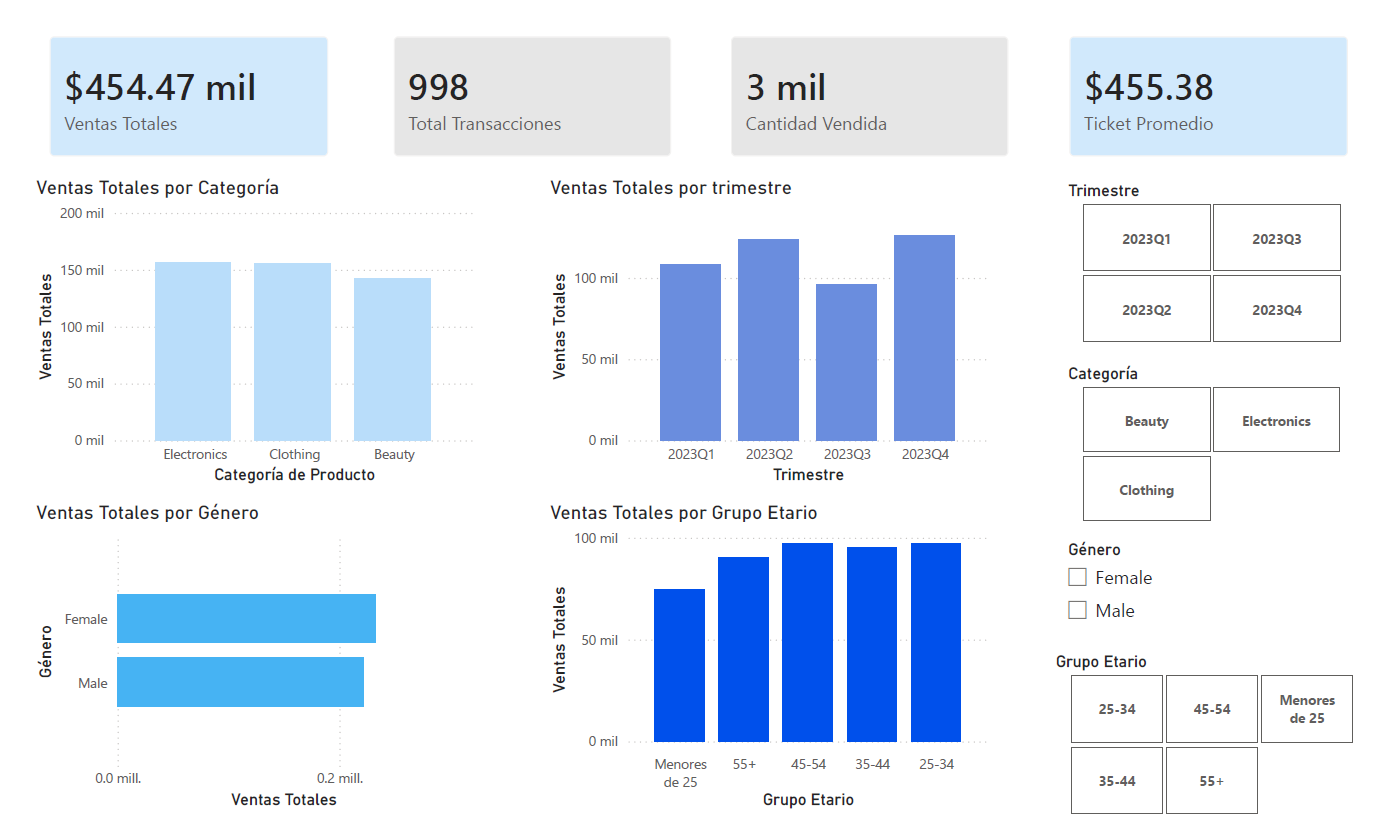

The dashboard page shown, as its layout file describes it:
{"tool":"powerbi","page":{"name":"Página 1","canvas":[1280,720],"ordinal":0},"visuals":[{"type":"cardVisual","fields":{"Data":["ventas_limpio.Ventas Totales"]},"box":[9.7,0,280.1,140.1],"z":0},{"type":"cardVisual","fields":{"Data":["ventas_limpio.Total Transacciones"]},"box":[314.2,0,279.1,140.1],"z":1000},{"type":"cardVisual","fields":{"Data":["ventas_limpio.Cantidad Vendida"]},"box":[611.8,0,279.1,140.1],"z":2000},{"type":"cardVisual","fields":{"Data":["ventas_limpio.Ticket Promedio"]},"box":[911.4,0,279.1,140.1],"z":3000},{"type":"columnChart","title":"Ventas Totales por Categoría","fields":{"Category":["ventas_limpio.Product Category"],"Y":["ventas_limpio.Ventas Totales"]},"box":[9.7,140.1,396.8,277.2],"z":4000},{"type":"clusteredColumnChart","fields":{"Category":["ventas_limpio.trimestre"],"Y":["ventas_limpio.Ventas Totales"]},"box":[464,140.1,396.8,277.2],"z":5000},{"type":"barChart","title":"Ventas Totales por Género","fields":{"Category":["ventas_limpio.Gender"],"Y":["ventas_limpio.Ventas Totales"]},"box":[10,427,397,277],"z":6000},{"type":"columnChart","title":"Ventas Totales por Grupo Etario","fields":{"Category":["ventas_limpio.grupo_etario"],"Y":["ventas_limpio.Ventas Totales"]},"box":[464,427,397,277],"z":7000},{"type":"slicer","title":"T","fields":{"Values":["ventas_limpio.trimestre"]},"box":[913.7,140.1,278.2,153.7],"z":8000},{"type":"slicer","fields":{"Values":["ventas_limpio.Product Category"]},"box":[914.3,301.5,277.2,150.8],"z":9000},{"type":"slicer","fields":{"Values":["ventas_limpio.Gender"]},"box":[914.3,457.1,276.2,91.4],"z":10000},{"type":"slicer","fields":{"Values":["ventas_limpio.grupo_etario"]},"box":[903,556.4,299.6,154.7],"z":11000}]}

Visuals, with their boxes on the page's 1280x720 design canvas (x1, y1, x2, y2). These are canvas units, not pixel positions in the 1381x835 screenshot, which may show the page scaled, cropped or inside an application window:
cardVisual - ventas_limpio.Ventas Totales: 10/0/290/140
cardVisual - ventas_limpio.Total Transacciones: 314/0/593/140
cardVisual - ventas_limpio.Cantidad Vendida: 612/0/891/140
cardVisual - ventas_limpio.Ticket Promedio: 911/0/1190/140
"Ventas Totales por Categoría" columnChart: 10/140/406/417
clusteredColumnChart - ventas_limpio.trimestre x ventas_limpio.Ventas Totales: 464/140/861/417
"Ventas Totales por Género" barChart: 10/427/407/704
"Ventas Totales por Grupo Etario" columnChart: 464/427/861/704
"T" slicer: 914/140/1192/294
slicer - ventas_limpio.Product Category: 914/302/1192/452
slicer - ventas_limpio.Gender: 914/457/1190/548
slicer - ventas_limpio.grupo_etario: 903/556/1203/711
